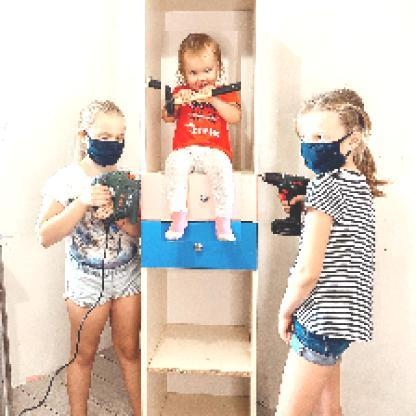child: (162, 32, 243, 243)
